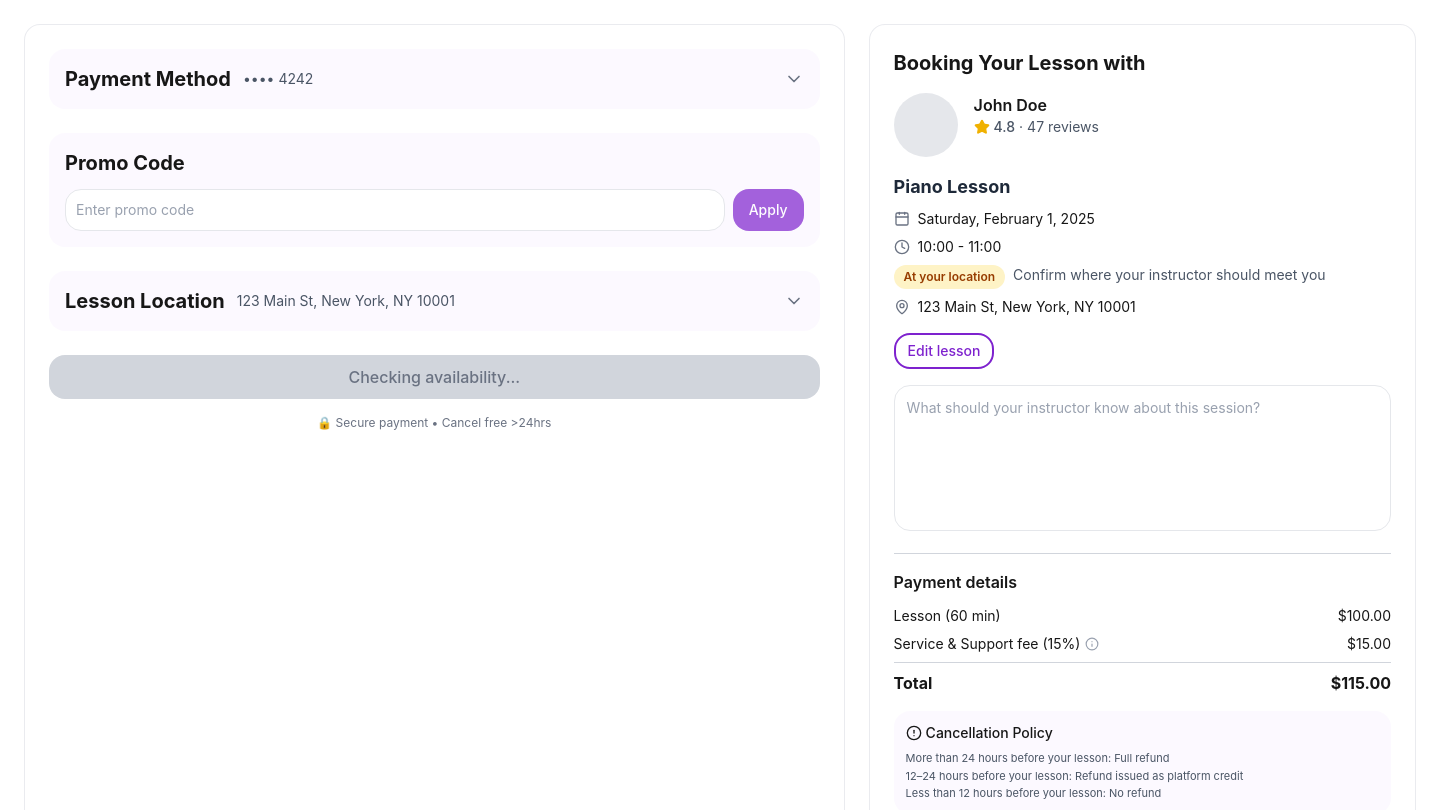
Scenario: PaymentConfirmation › payment method section › shows mixed payment info when using credits and card
The width and height of the screenshot is (1440, 810).
// Expand the payment section first (collapsed because has card)
Step 1. Click the heading "Payment Method" → click(148, 79), box x1=65 y1=65 x2=231 y2=93
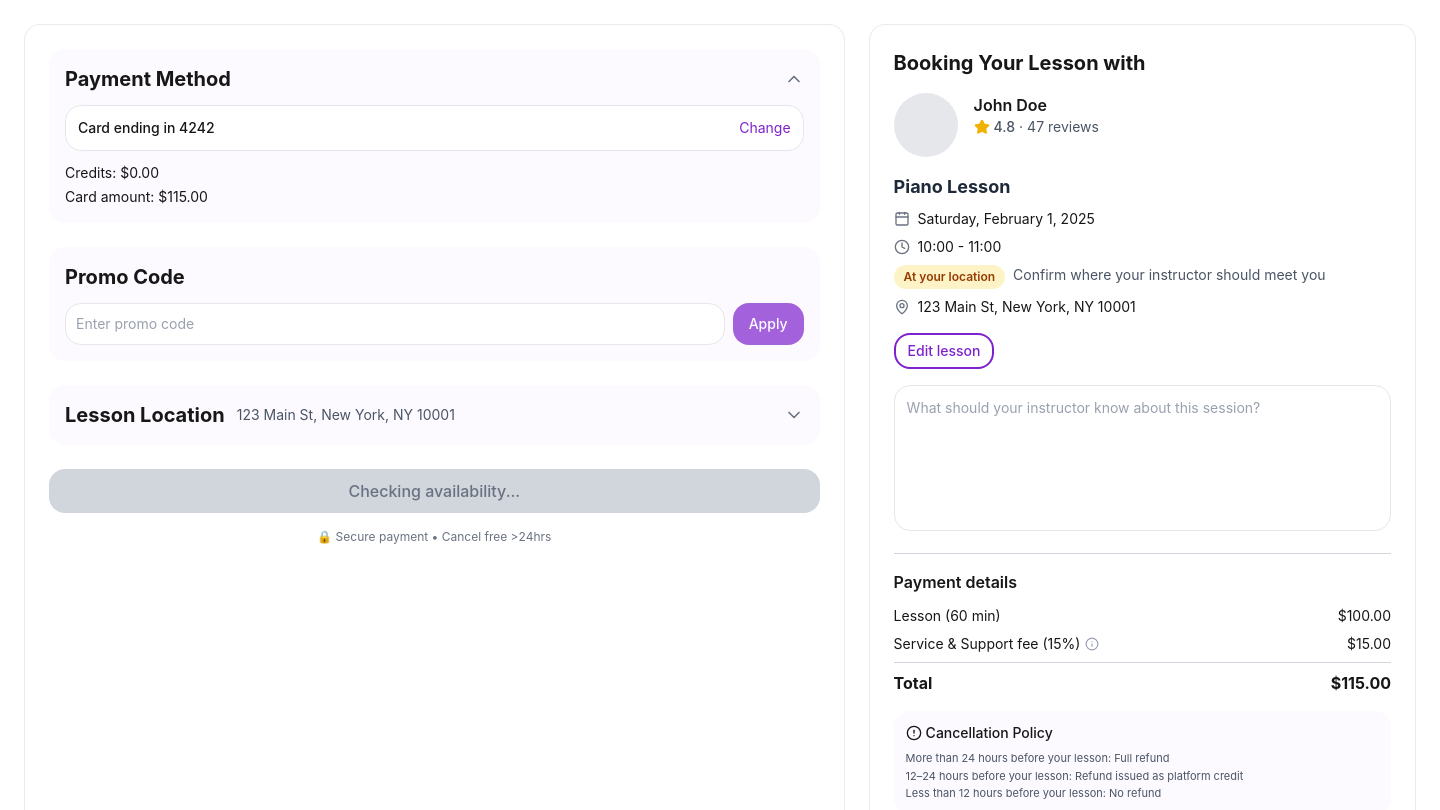
Now the text "Credits: $0.00" is shown, box x1=65 y1=164 x2=159 y2=181
Now the text "Card amount: $115.00" is shown, box x1=65 y1=188 x2=208 y2=205
